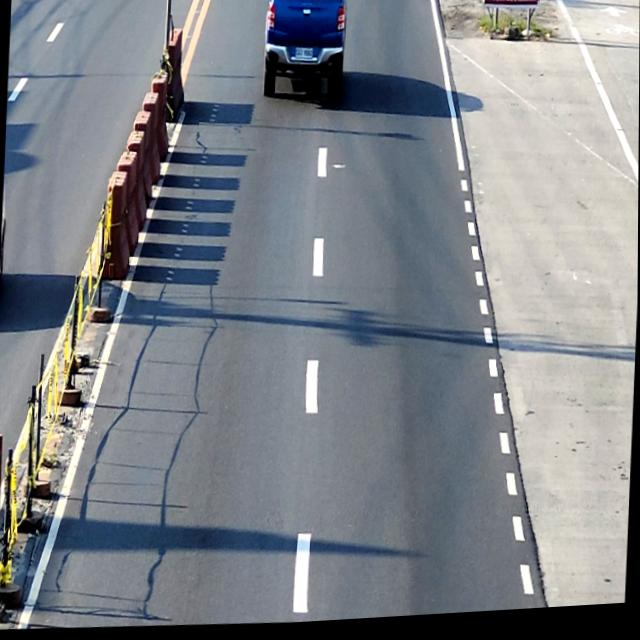Car: (257, 0, 354, 105)
License-Plate: (294, 50, 313, 63)
